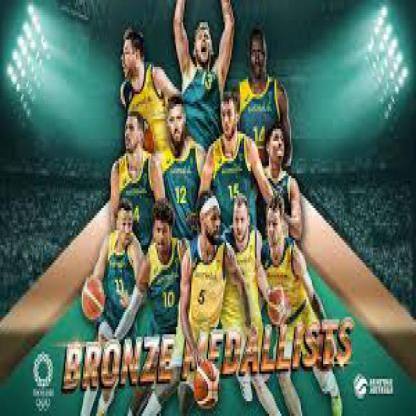basketball: (194, 362, 219, 411), (82, 280, 105, 319), (268, 288, 290, 324)
